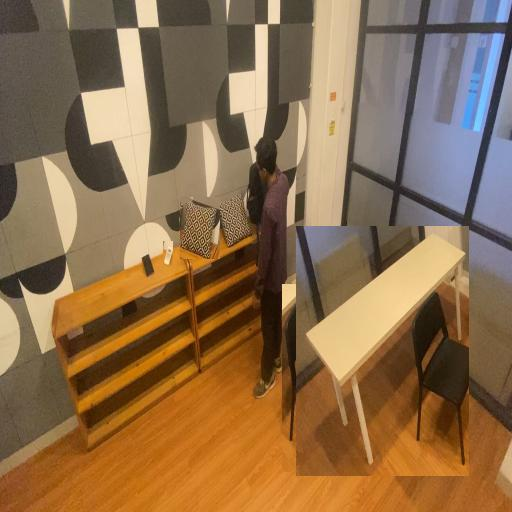bantal: (180, 197, 220, 259), (218, 188, 252, 252)
hp: (140, 250, 156, 284)
kursi: (282, 284, 356, 472)
lemari: (42, 231, 204, 460), (180, 185, 288, 373)
meja: (296, 226, 469, 476)
remote AC: (163, 241, 173, 273)
tas ransel: (246, 160, 270, 226)
